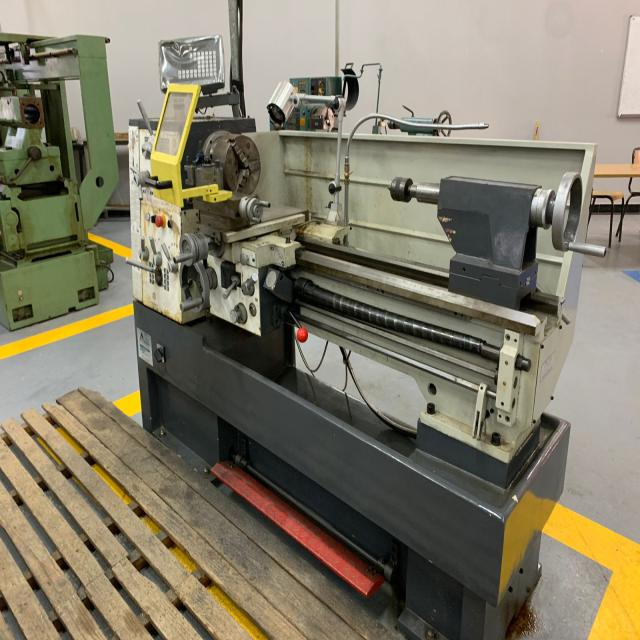tour parallele: (128, 36, 596, 640)
